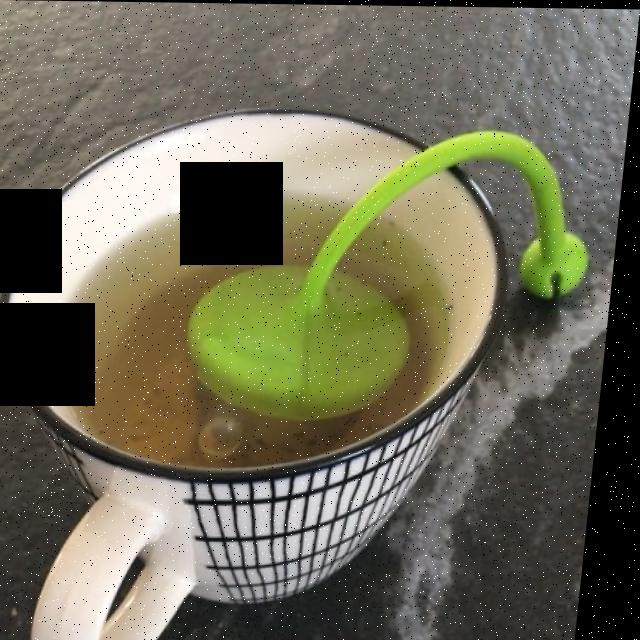tea: (69, 197, 413, 459)
